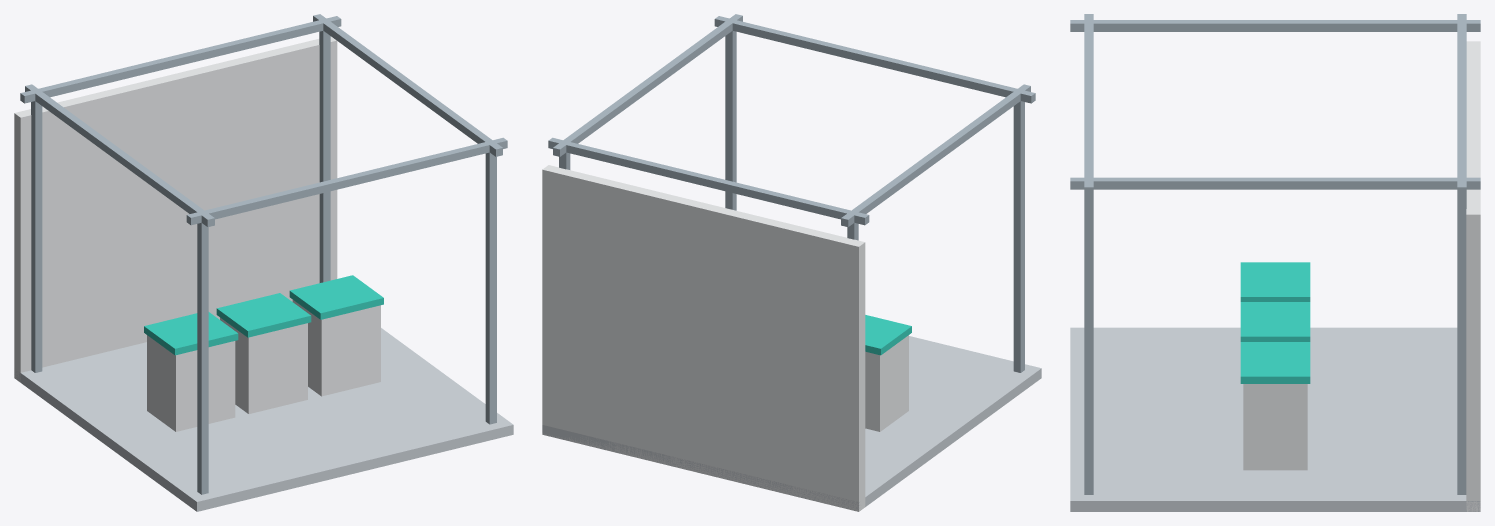
The picture shows the model from 3 angles, left to right: view 1: azimuth 30°, elevation 25°; view 2: azimuth 150°, elevation 25°; view 3: azimuth 270°, elevation 25°; orthographic projection. The views are drawn at different scales.
Parts seen in each view (by area): view 1: Exhibition Booth Concept; view 2: Exhibition Booth Concept; view 3: Exhibition Booth Concept.
Boxes of the visible parts, left/top/right/bottom form: Exhibition Booth Concept: left=14, top=14, right=513, bottom=511; Exhibition Booth Concept: left=542, top=14, right=1041, bottom=511; Exhibition Booth Concept: left=1070, top=14, right=1480, bottom=511.
Size of the model in its own units: 4 by 3.49 by 4.
